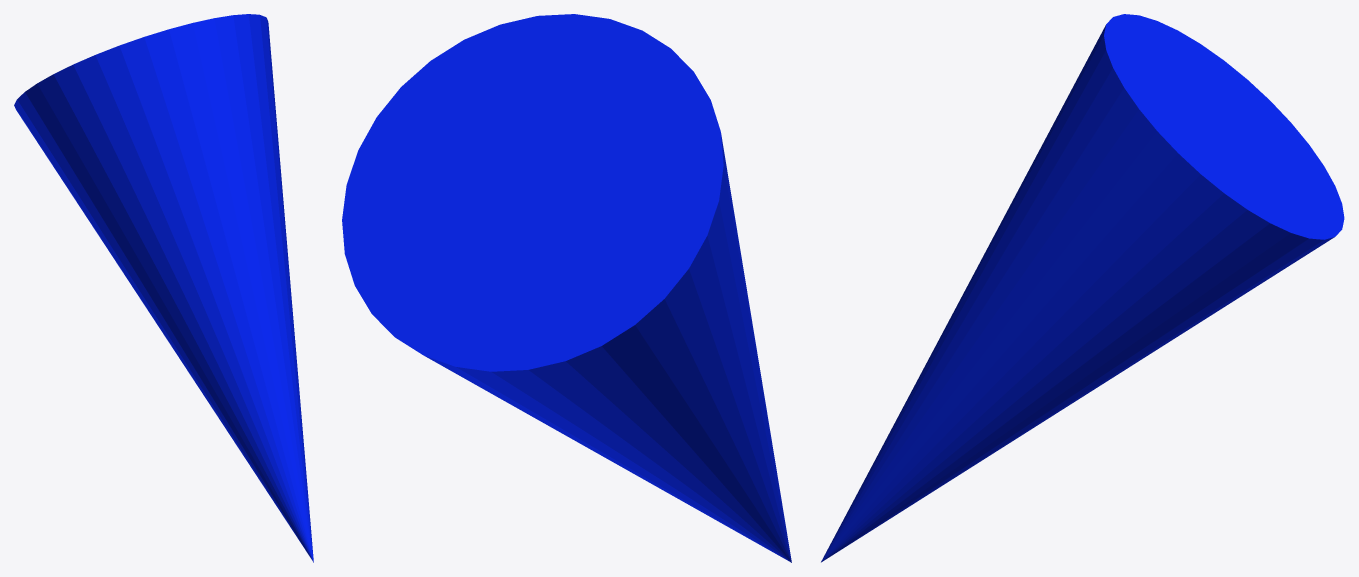
File: PlayerRightArm.obj
The picture shows the model from 3 angles, left to right: view 1: azimuth 30°, elevation 25°; view 2: azimuth 150°, elevation 25°; view 3: azimuth 270°, elevation 25°; orthographic projection. The views are drawn at different scales.
Visible parts, largest first — view 1: RightArm; view 2: RightArm; view 3: RightArm.
Part boxes in pixels (bbox=[...]): RightArm: bbox=[14, 14, 313, 562]; RightArm: bbox=[342, 14, 791, 562]; RightArm: bbox=[821, 14, 1344, 562].
Size of the model in its own units: 1 by 1.85 by 1.67.
